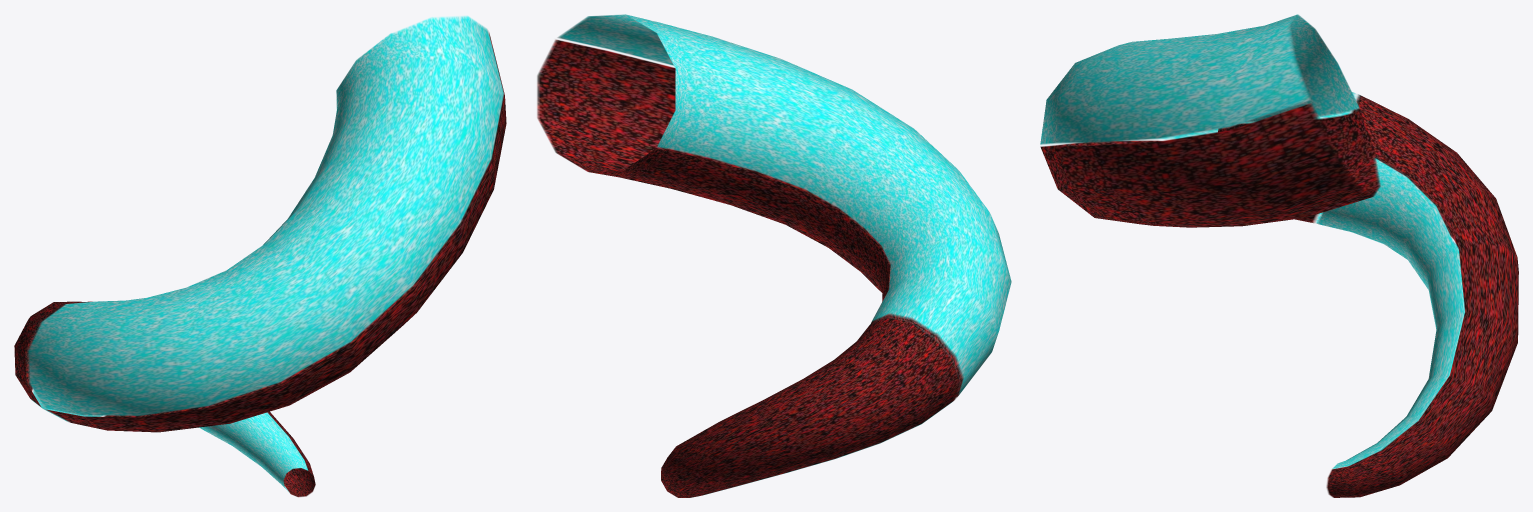
3 views of the same model, side by side, from view 1: azimuth 30°, elevation 25°; view 2: azimuth 150°, elevation 25°; view 3: azimuth 270°, elevation 25° (orthographic). The views are drawn at different scales.
Visible parts, largest first — view 1: SM_VFX_Swirl_01_480_LOD0; view 2: SM_VFX_Swirl_01_480_LOD0; view 3: SM_VFX_Swirl_01_480_LOD0.
Part boxes in pixels (x1,y1,x2,y2): SM_VFX_Swirl_01_480_LOD0: (14, 16, 506, 497); SM_VFX_Swirl_01_480_LOD0: (537, 14, 1011, 497); SM_VFX_Swirl_01_480_LOD0: (1040, 14, 1518, 497).
Bounding box in the file's own units: 5.51 × 5.37 × 4.36.
Materials: 1 (1 with a texture image).
